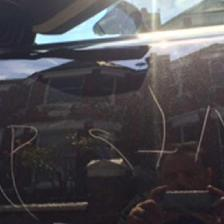door_scratch: (5, 70, 224, 212)
